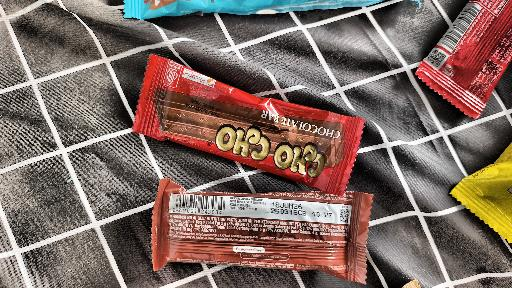chocho: (130, 96, 394, 182)
top: (121, 183, 395, 278)
